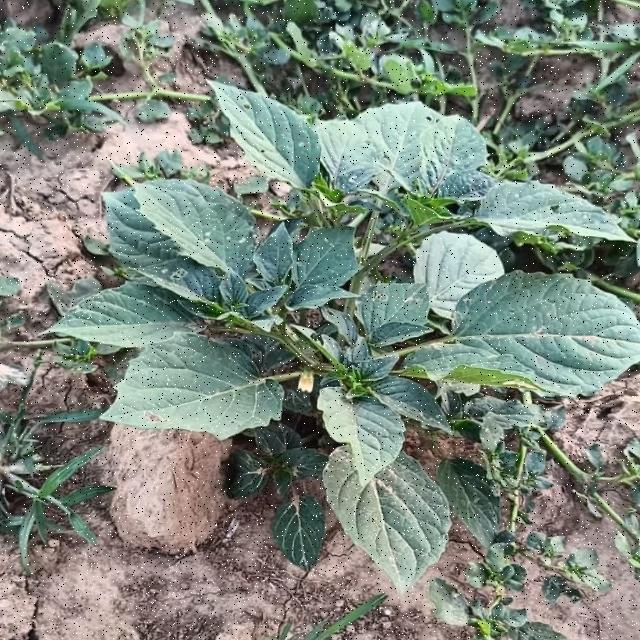weed: (44, 81, 640, 593), (51, 81, 639, 593)
